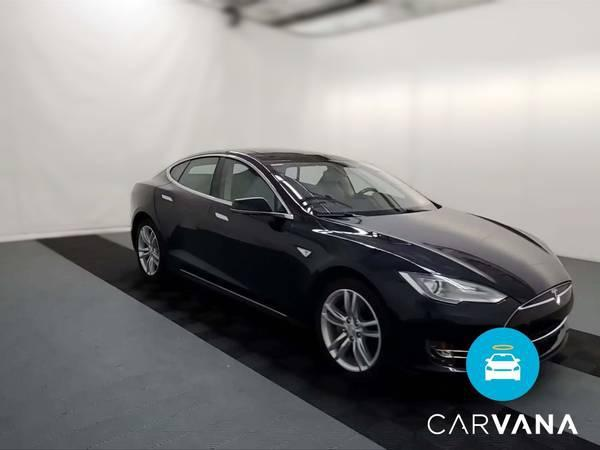Front_Bumper: (387, 292, 518, 381)
Front_Fender: (288, 213, 427, 320)
Front_Right_Door: (208, 200, 294, 316)
Front_Right_Window: (213, 158, 294, 222)
Front_Windshield: (266, 161, 441, 221)
Grille: (490, 283, 573, 372)
Hood: (319, 208, 572, 302)
Rear_Fender: (128, 162, 187, 228)
Rear_Right_Door: (154, 180, 214, 290)
Rear_Right_Window: (171, 156, 223, 201)
Right_Headlight: (400, 271, 511, 302)
Roof: (137, 148, 360, 218)
Wheel: (309, 279, 390, 379), (134, 223, 162, 278)
